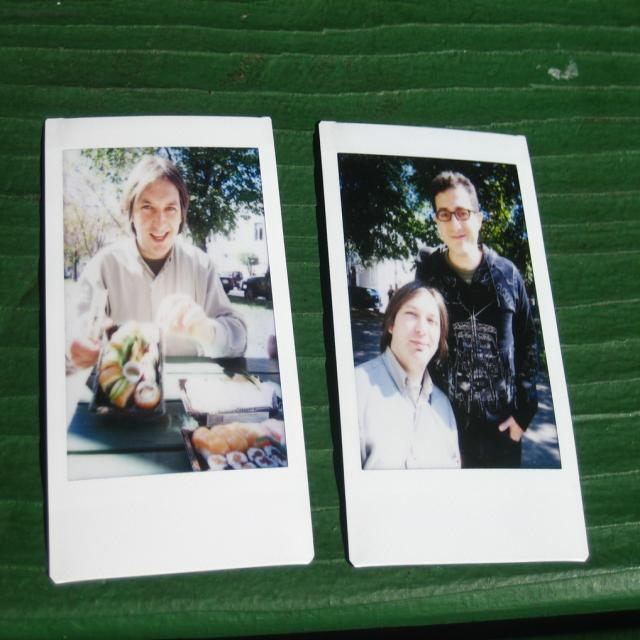Glasses: (437, 207, 474, 220)
